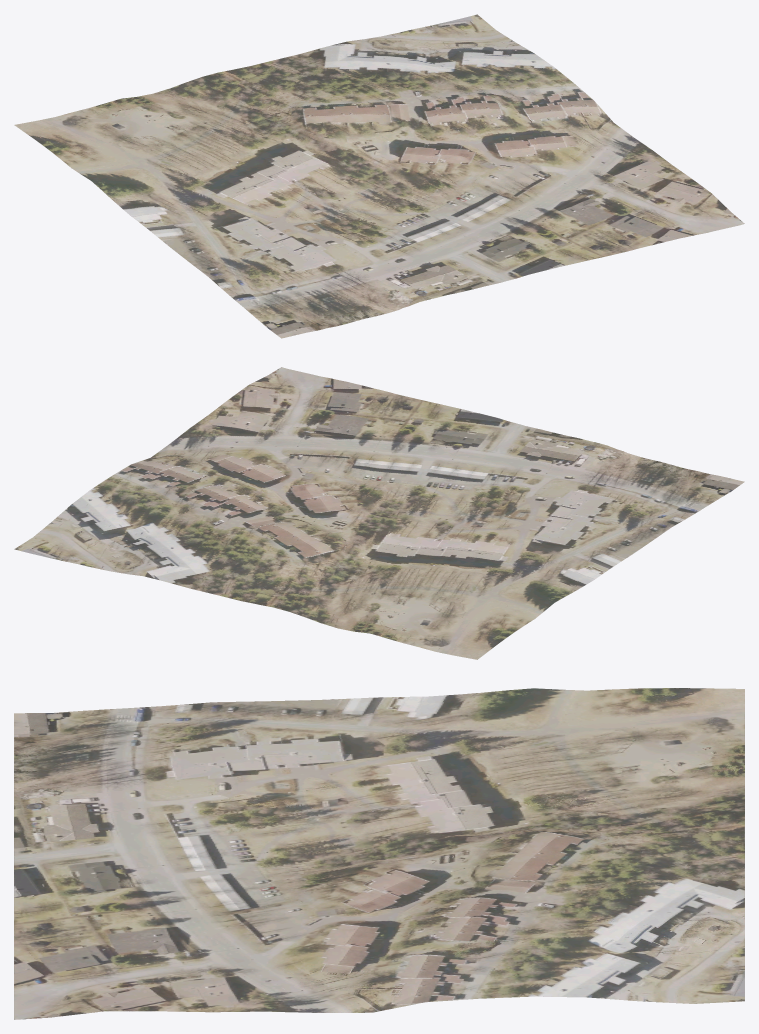
File: CM_Terrain_24492916_6814674.fbx
3 renders of one model, top to bottom at view 1: azimuth 30°, elevation 25°; view 2: azimuth 150°, elevation 25°; view 3: azimuth 270°, elevation 25°, orthographic. The views are drawn at different scales.
Parts seen in each view (by area): view 1: CM_Terrain_24492916_6814674_LOD0; view 2: CM_Terrain_24492916_6814674_LOD0; view 3: CM_Terrain_24492916_6814674_LOD0.
Boxes of the visible parts, left/top/right/bottom form: CM_Terrain_24492916_6814674_LOD0: left=14, top=14, right=744, bottom=338; CM_Terrain_24492916_6814674_LOD0: left=14, top=367, right=744, bottom=659; CM_Terrain_24492916_6814674_LOD0: left=14, top=688, right=744, bottom=1019.
Size of what is drawn, in the model's own units: 205 by 10.08 by 205.
